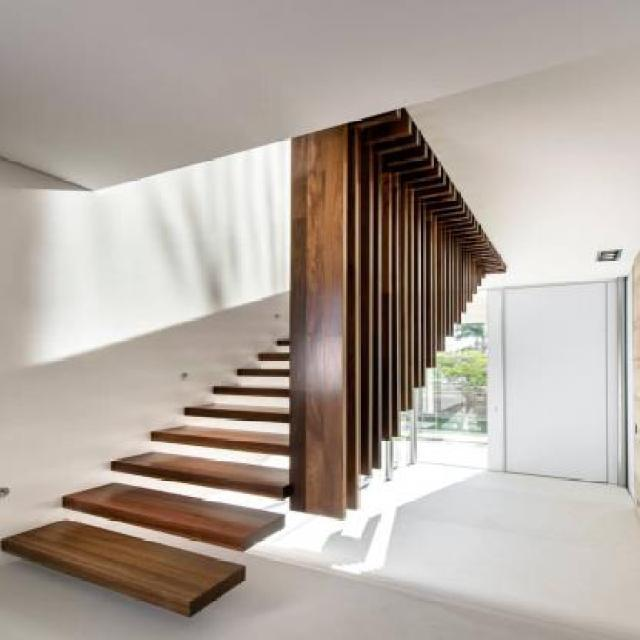stair: (1, 175, 507, 598)
